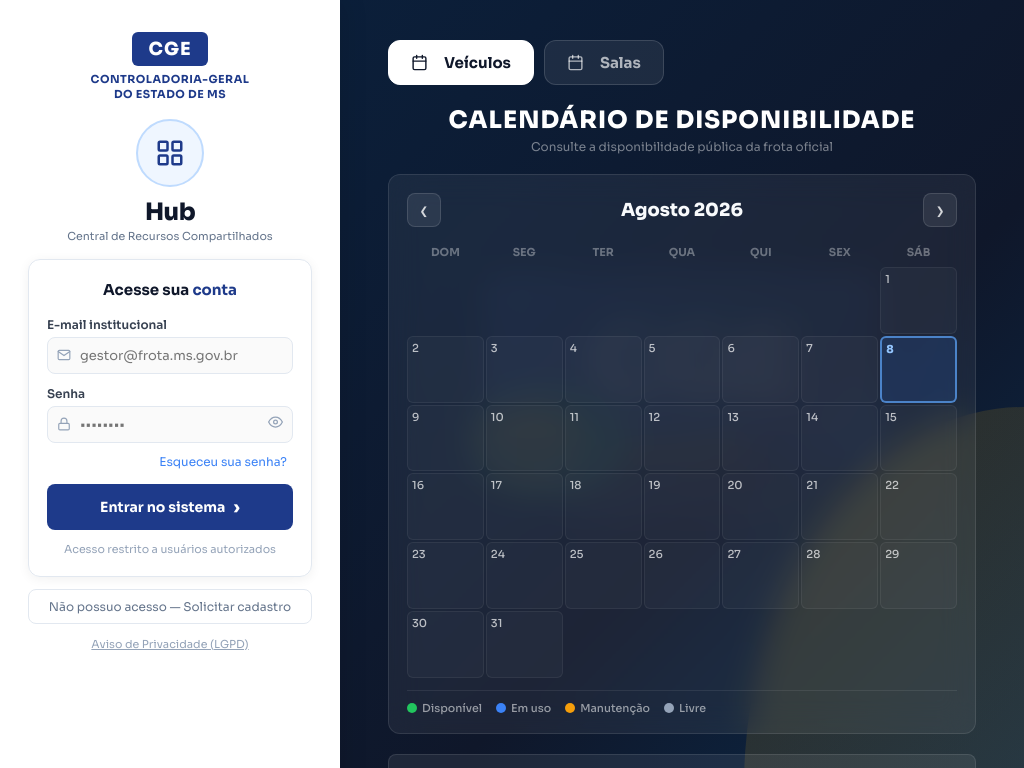
Test case: Login — submissão do formulário › desabilita o botão durante o carregamento
In the field labelled "E-mail institucional": [170, 355] box [47,337,293,374], type "a@b.com"
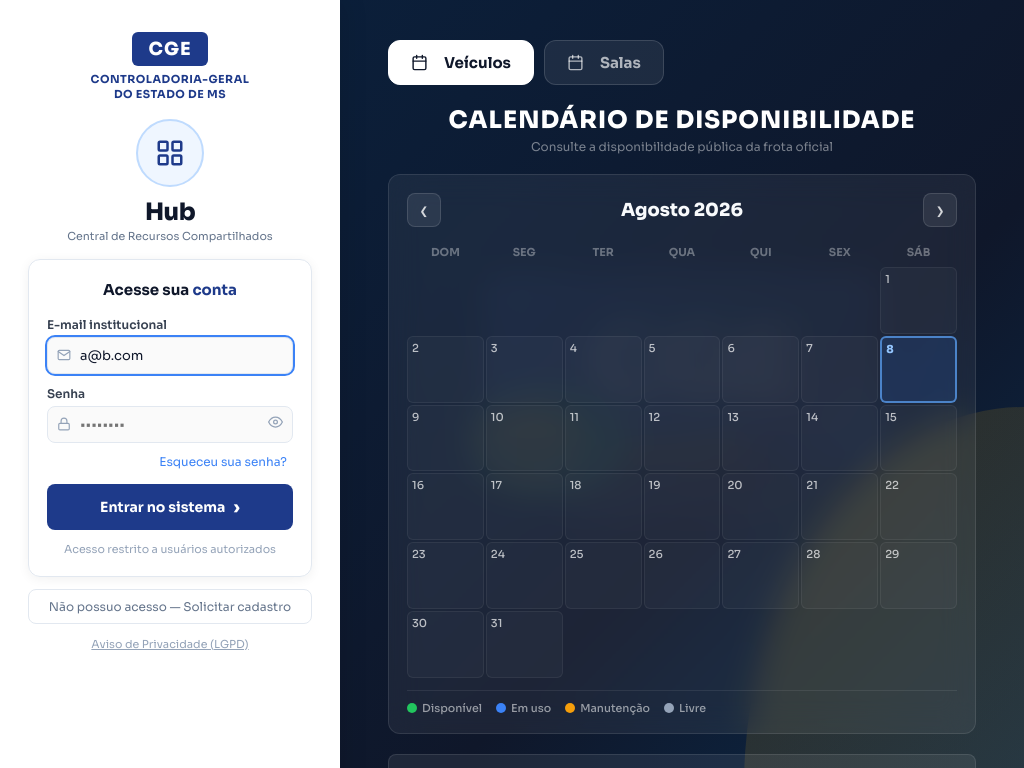
In the password field labelled "Senha": [170, 424] box [47,406,293,443], type "abc123"
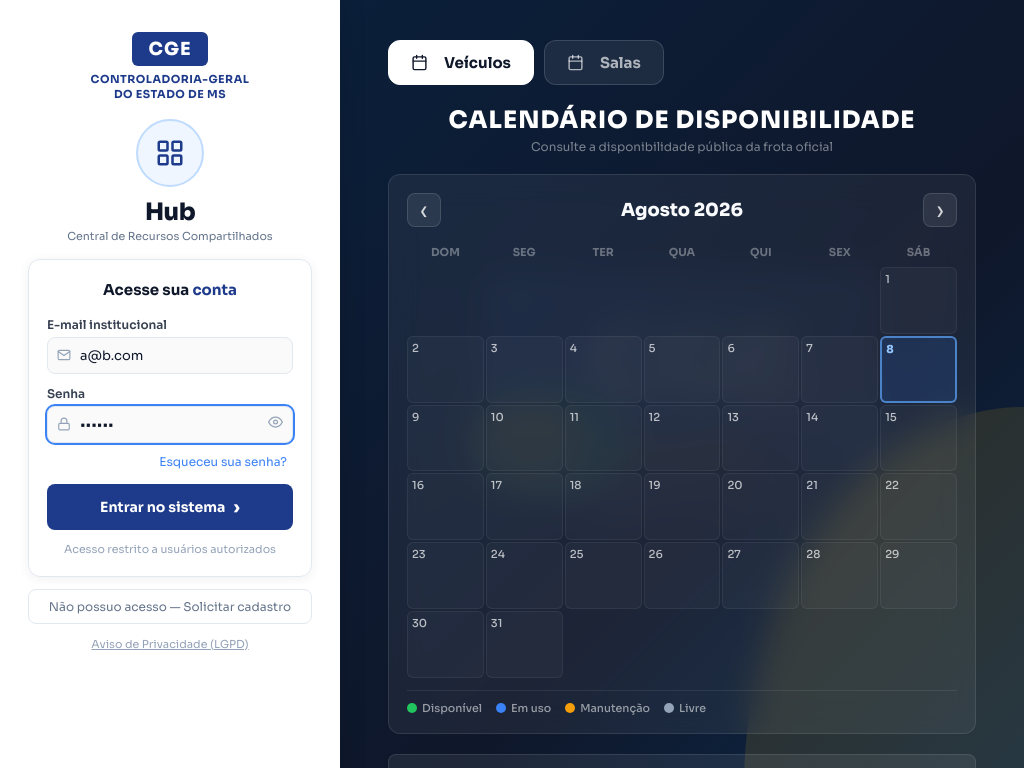
Submit the form "Entrar no sistema", box [47,317,293,530]
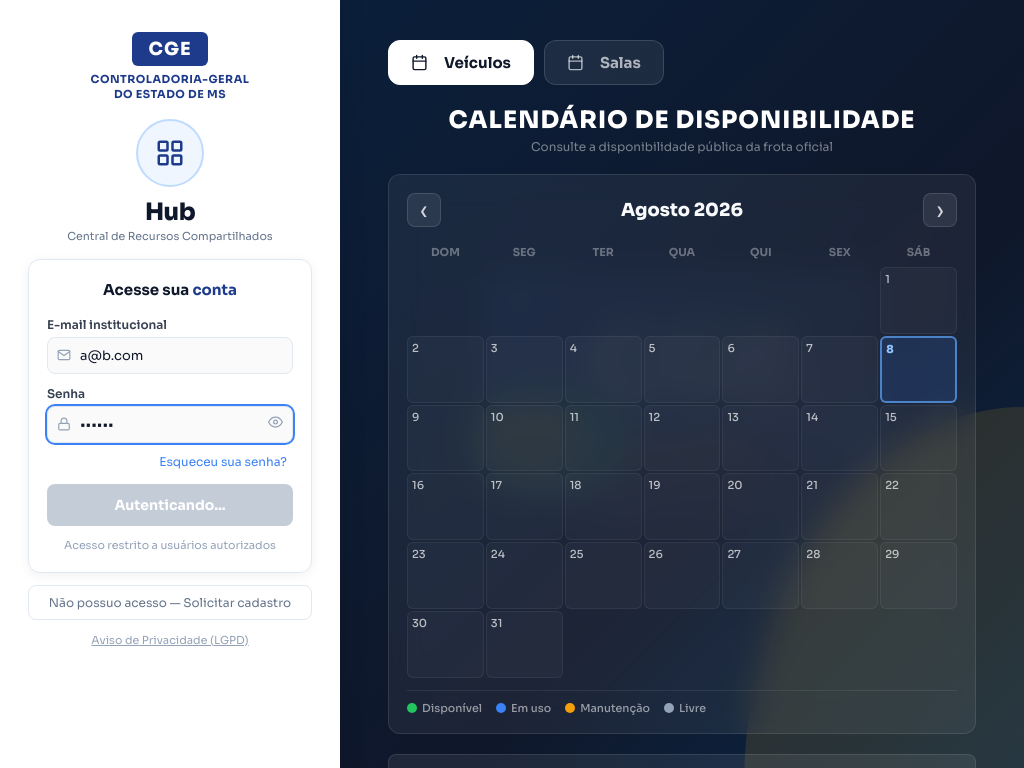
Check: the button named "entrar no sistema" is disabled, box [47,484,293,526]
